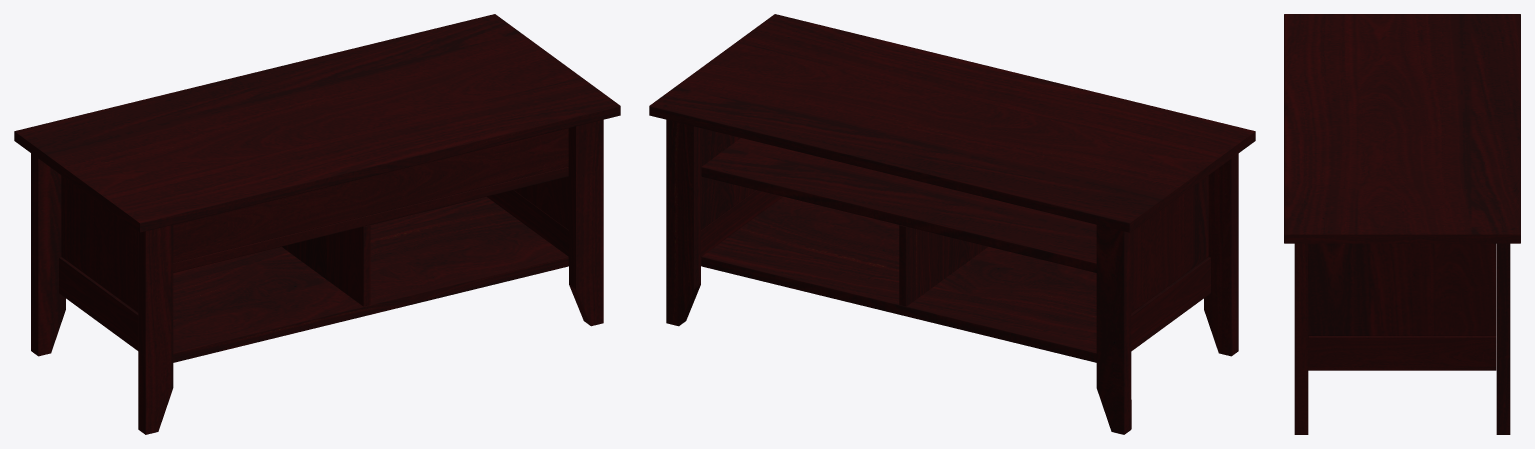
Rendered from RDBT4847.obj.
3 views of the same model, side by side, from view 1: azimuth 30°, elevation 25°; view 2: azimuth 150°, elevation 25°; view 3: azimuth 270°, elevation 25° (orthographic). The views are drawn at different scales.
Parts seen in each view (by area): view 1: not_clear_obj_0_v6; view 2: not_clear_obj_0_v6; view 3: not_clear_obj_0_v6.
Boxes of the visible parts, box(x1,y1,x2,y2) form: not_clear_obj_0_v6: box(14, 14, 620, 434); not_clear_obj_0_v6: box(649, 14, 1255, 434); not_clear_obj_0_v6: box(1284, 14, 1520, 434).
Size of what is drawn, in the model's own units: 109 by 47.46 by 49.53.
